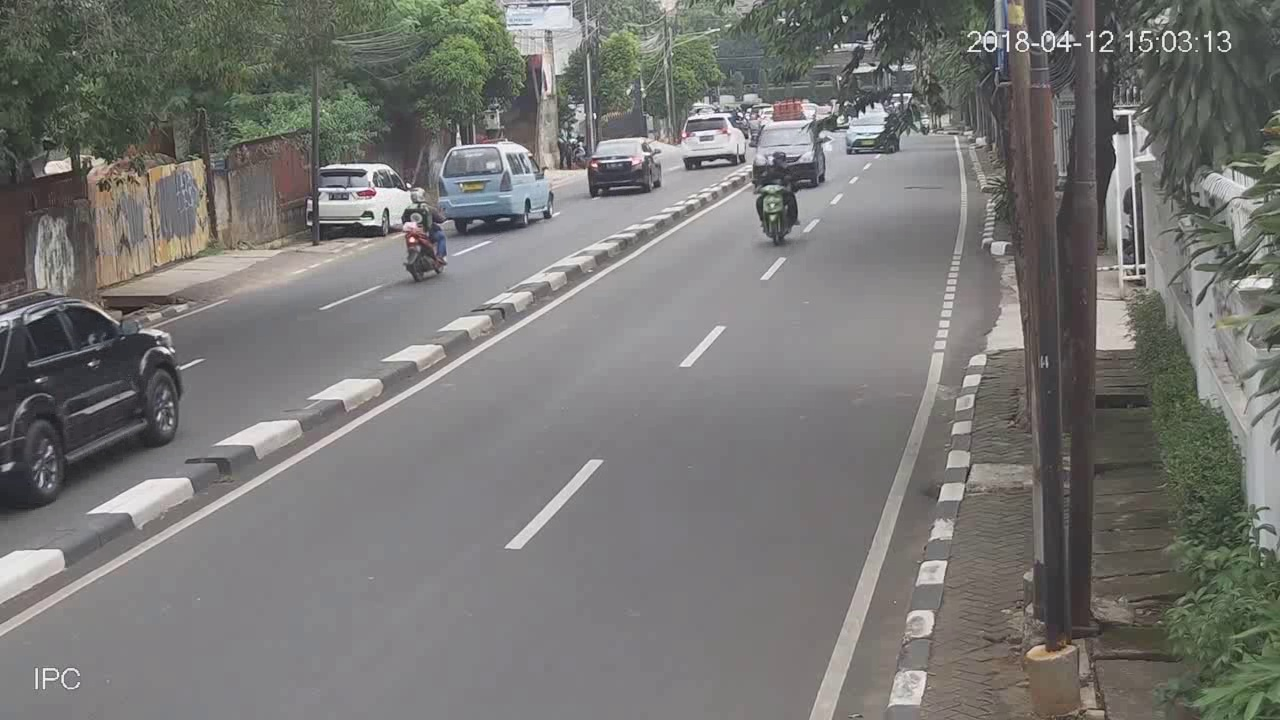car: (1, 286, 189, 510), (439, 140, 558, 230), (306, 161, 392, 241), (584, 136, 663, 198)
motorcycle: (401, 181, 449, 283), (749, 151, 799, 246)
